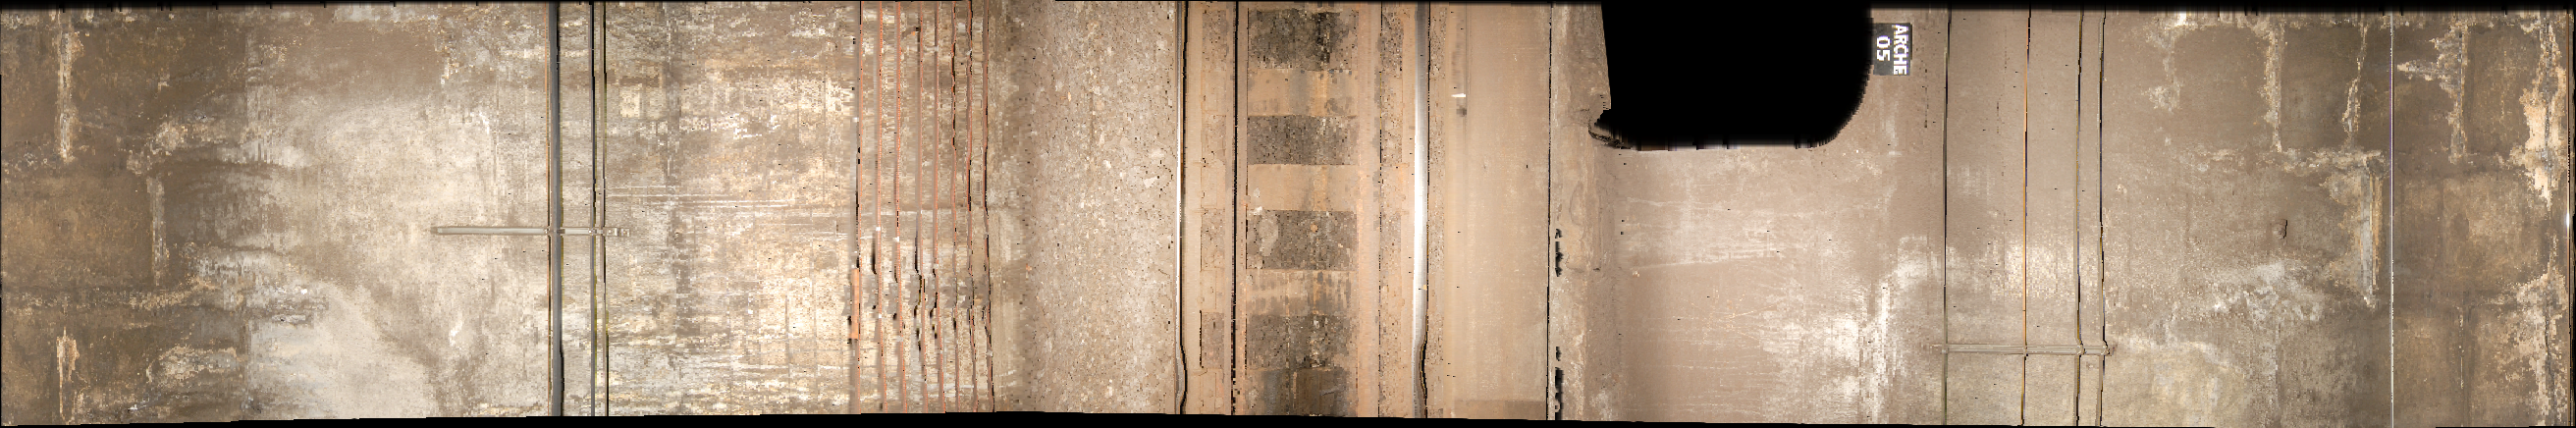pipes: (849, 7, 999, 428), (2011, 16, 2126, 428), (544, 2, 613, 428), (2374, 11, 2418, 428), (1939, 13, 1965, 428)
sign: (1870, 18, 1919, 84)
tracks: (1170, 11, 1446, 428)
